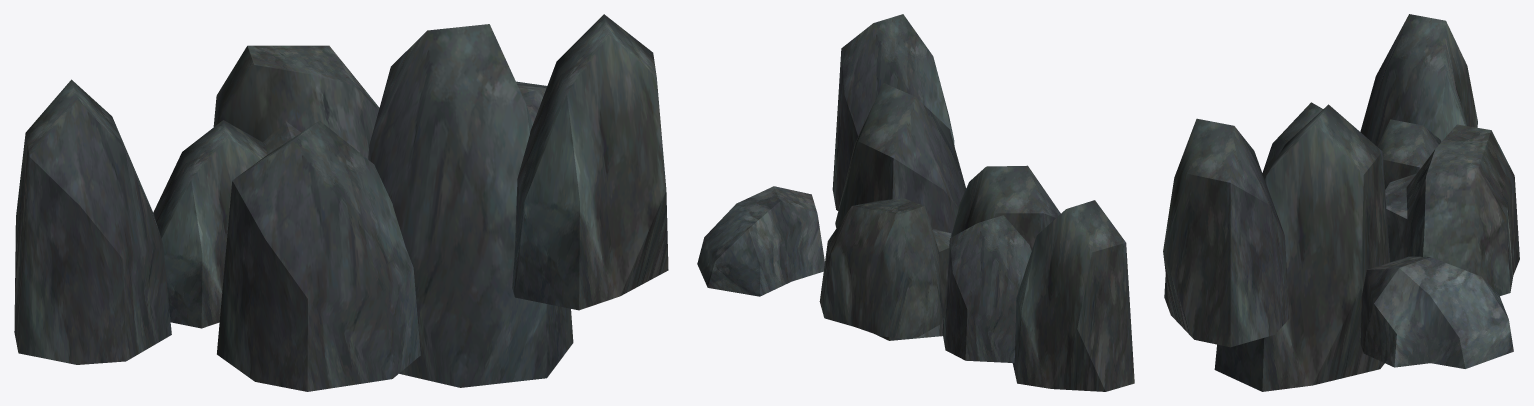
File: object_rubble42.fbx
The picture shows the model from 3 angles, left to right: view 1: azimuth 30°, elevation 25°; view 2: azimuth 150°, elevation 25°; view 3: azimuth 270°, elevation 25°; orthographic projection. The views are drawn at different scales.
Parts seen in each view (by area): view 1: Material_#238683587/cliffside; view 2: Material_#238683587/cliffside; view 3: Material_#238683587/cliffside.
Boxes of the visible parts, x1,y1,x2,y2 form: Material_#238683587/cliffside: (14, 14, 668, 391); Material_#238683587/cliffside: (697, 14, 1134, 391); Material_#238683587/cliffside: (1163, 14, 1519, 391).
Bounding box in the file's own units: 9.85 × 5.53 × 6.59.
